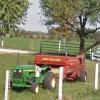Tractor: (9, 45, 85, 95)
